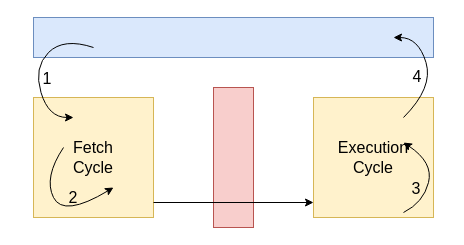
Some shapes in this 464 by 245 pixel diagram are drawn without their labels. Here are the shapes that lost their labels. From the top down, the centre of each, then its label:
the point at 233,37: Main Memory
the point at 233,157: Register
